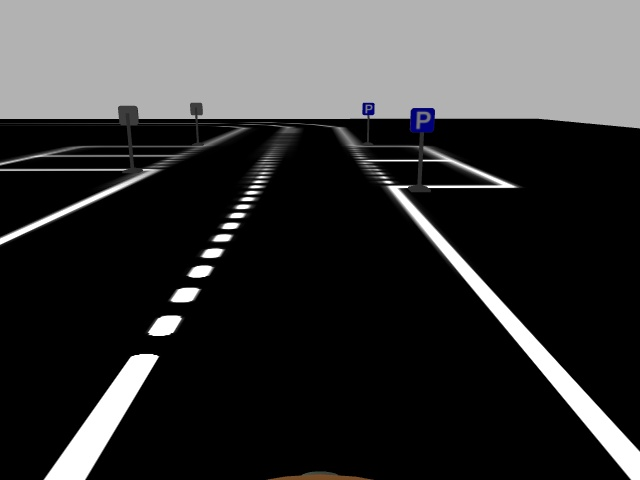parking: (409, 107, 435, 132), (361, 101, 374, 115)
